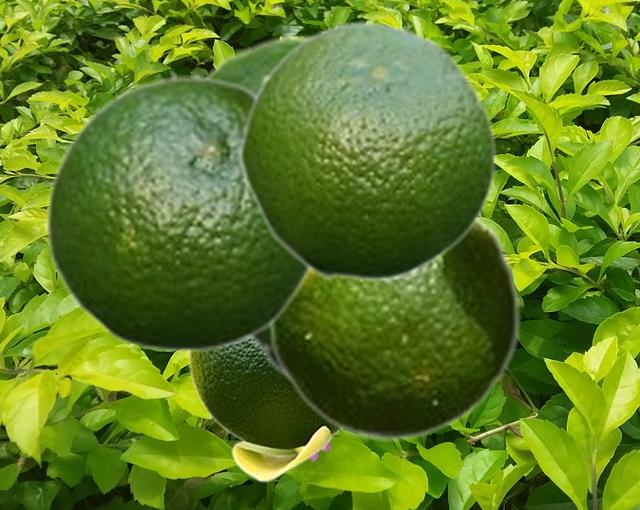calamansi: (45, 75, 315, 353), (237, 18, 497, 281), (266, 217, 521, 440), (188, 341, 342, 481), (203, 34, 307, 89)
